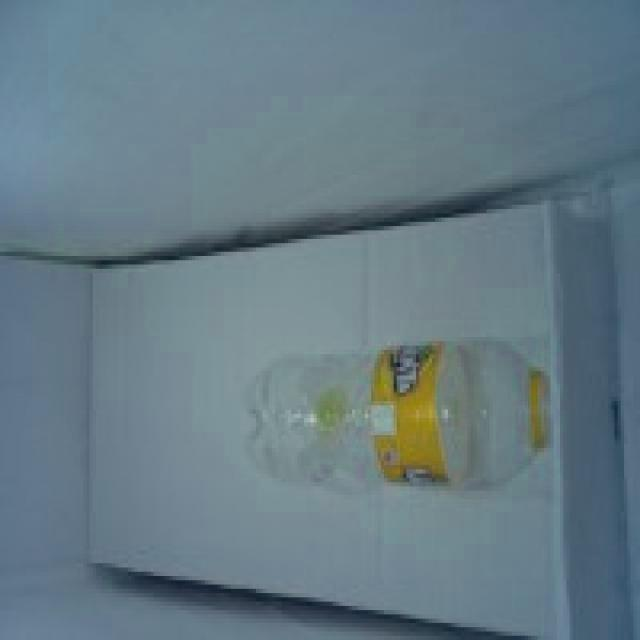bottle: (243, 339, 551, 496)
